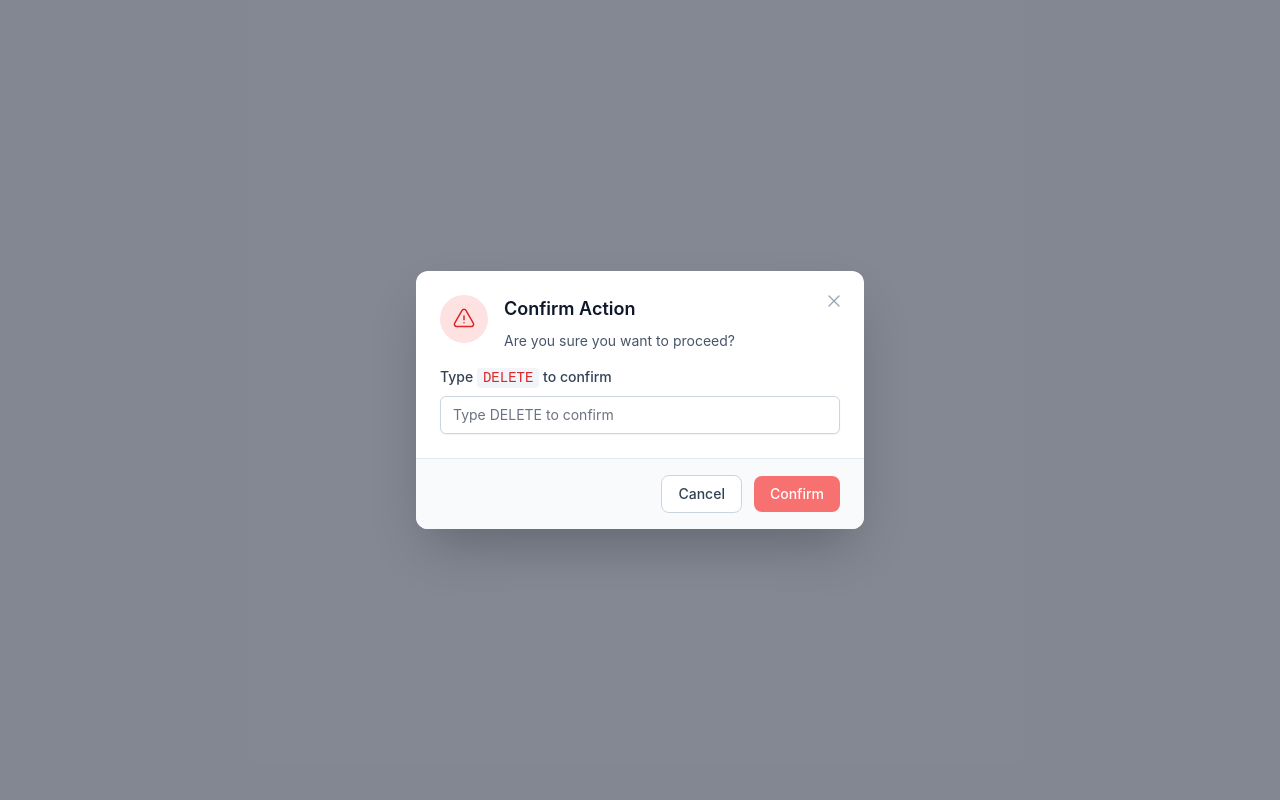
Test: ConfirmDialog › with confirmation text input › enables confirm button when input matches confirmation text
This screenshot has width=1280, height=800.
Type "DELETE" into the field with placeholder "Type DELETE to confirm" at (640, 415), box [440,396,840,434]
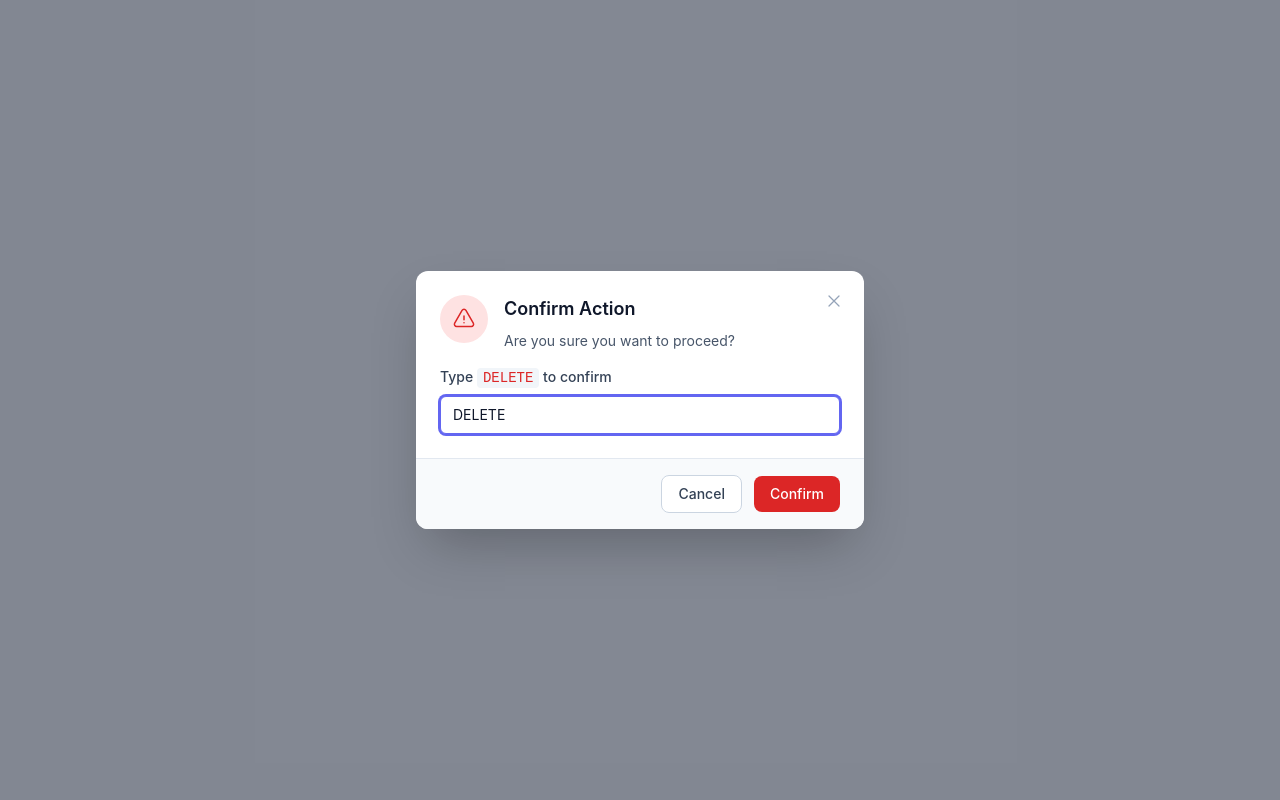
Check: the button "Confirm" is enabled, box [754,476,840,512]
